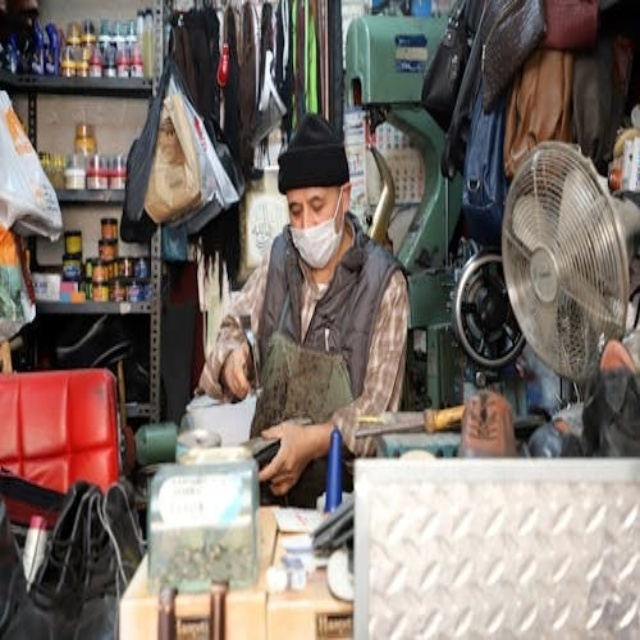Mascara: (288, 191, 345, 268)
Sin_gafas: (285, 189, 330, 221)
Sin_guantes: (256, 418, 322, 493), (219, 345, 254, 401)
